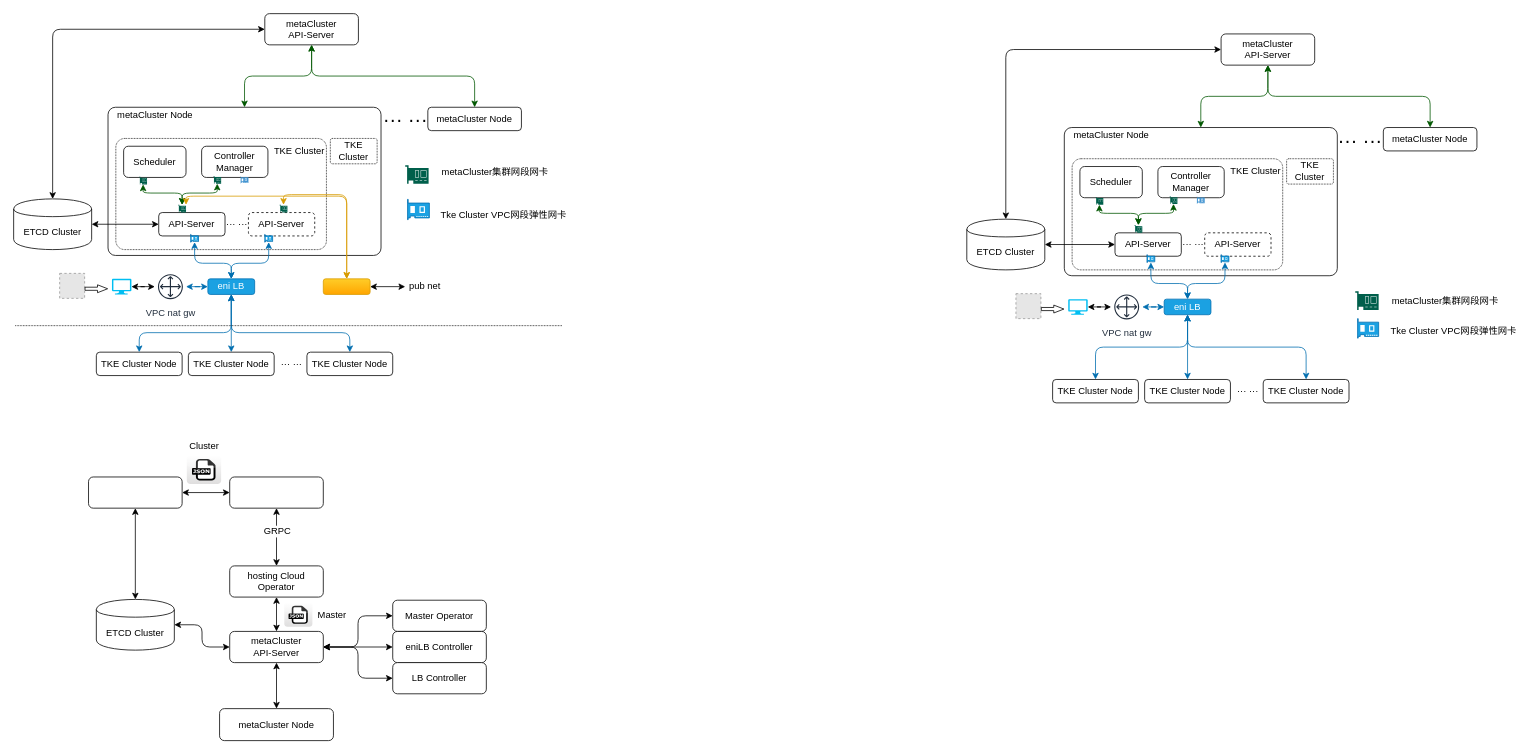
This 1537x754 diagram has some shape labels left out. Grey dashed boxes stand in for pictures. Here are the shapes that lost their labels. From the top down, the box of each, then its label:
(323, 278, 370, 294): LB
(88, 476, 182, 508): TKE API-Server
(229, 476, 323, 508): TKE Controller
